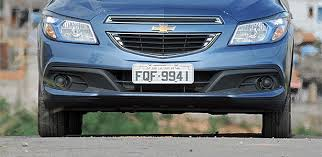car: (36, 0, 295, 137)
car_plate: (131, 63, 195, 84)
